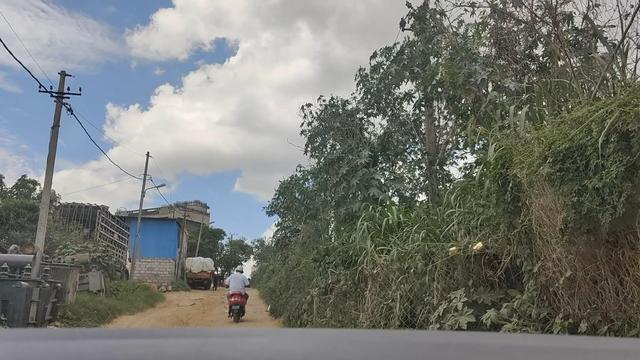HMV: (181, 253, 215, 292)
UnsurfacedRoad: (128, 290, 224, 332)
